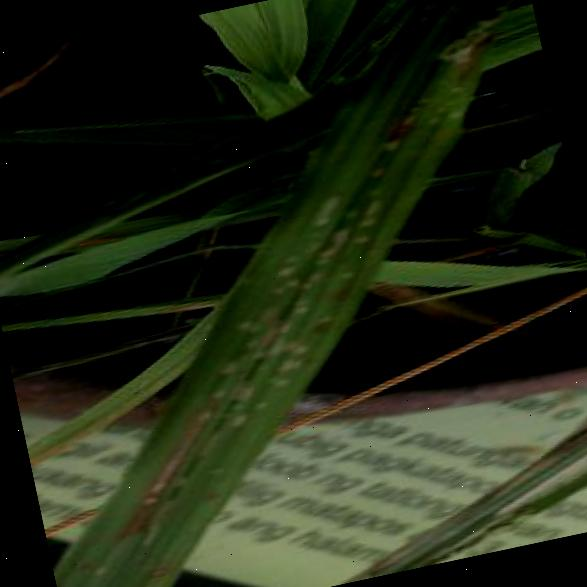Leaf_smut: (64, 380, 238, 554)
